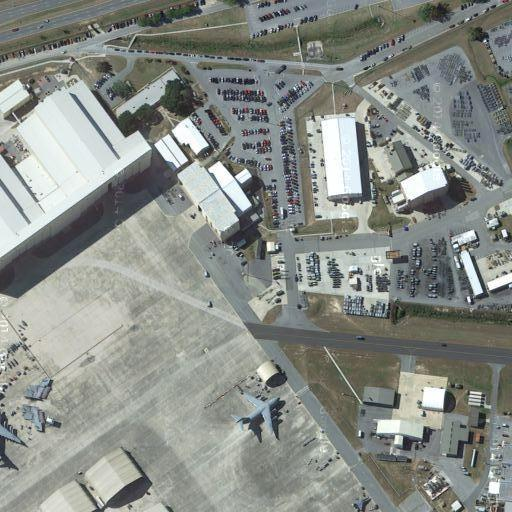C-17: (229, 384, 285, 443)
